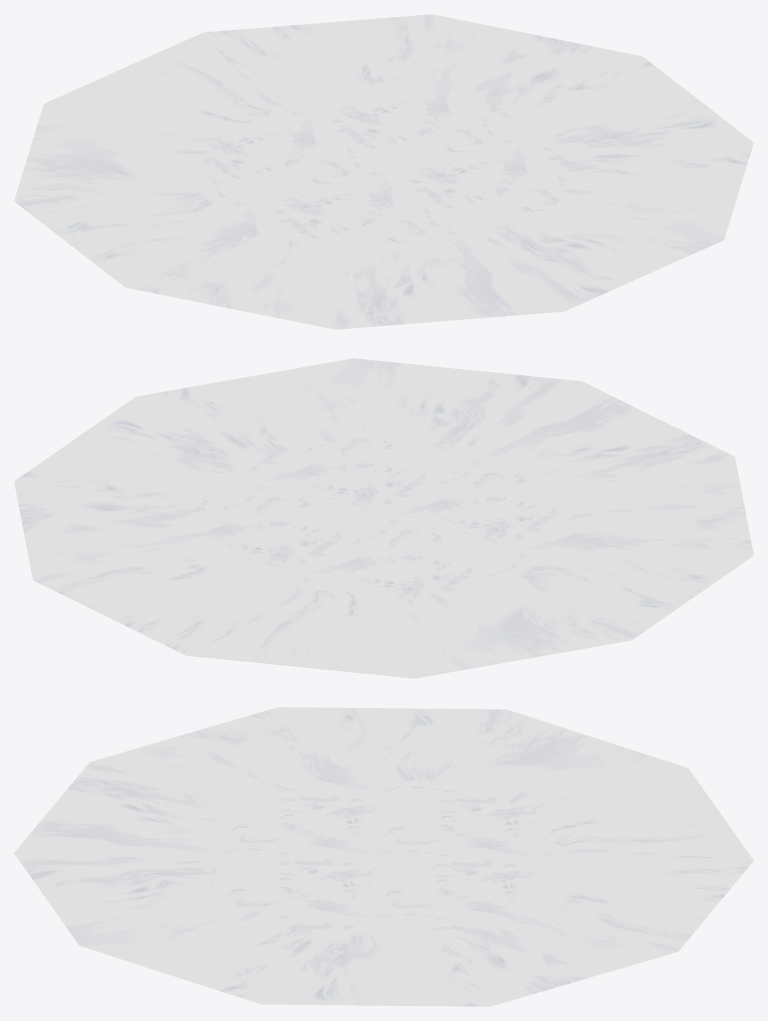
3 renders of one model, top to bottom at view 1: azimuth 30°, elevation 25°; view 2: azimuth 150°, elevation 25°; view 3: azimuth 270°, elevation 25°, orthographic. The views are drawn at different scales.
Parts seen in each view (by area): view 1: tt01; view 2: tt01; view 3: tt01.
Boxes of the visible parts, bbox=[...] form: tt01: bbox=[14, 14, 753, 329]; tt01: bbox=[14, 358, 753, 678]; tt01: bbox=[14, 707, 753, 1006].
Size of the model in its own units: 6225 by 1.35 by 6495.
